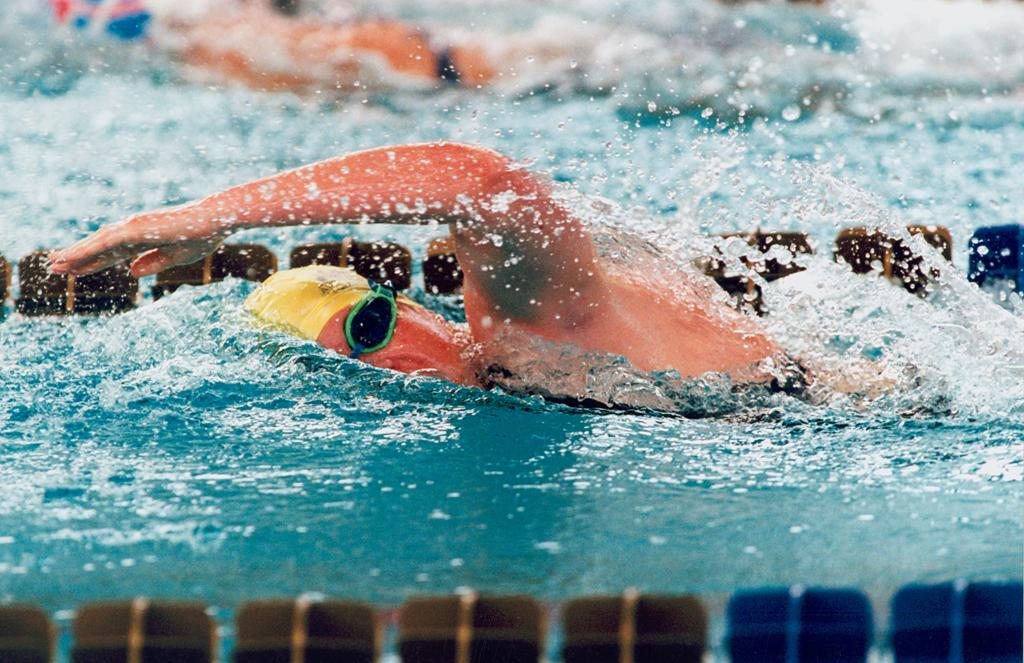face: (242, 282, 482, 442)
